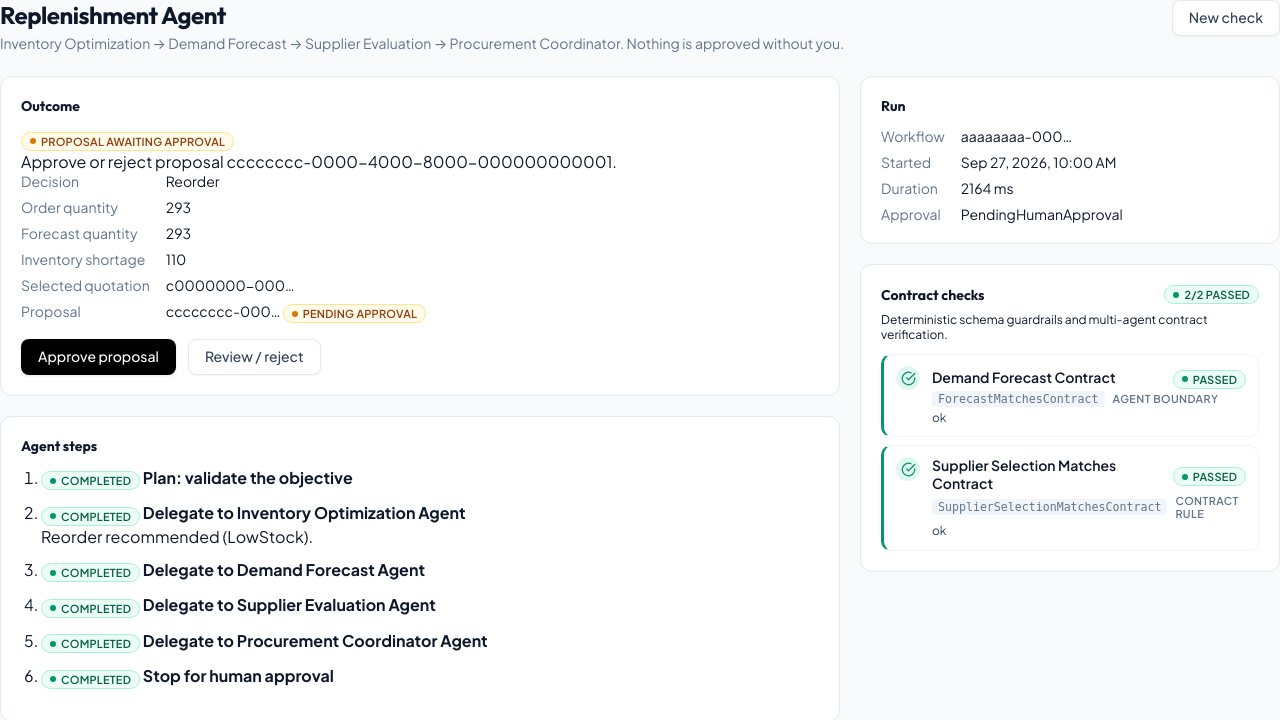
Scenario: ReplenishmentPage — a run › lets a Procurement Manager approve through the agent workflow and shows the live status
Click the button "Approve proposal". click: (98, 357)
box: 21,339 -> 176,374
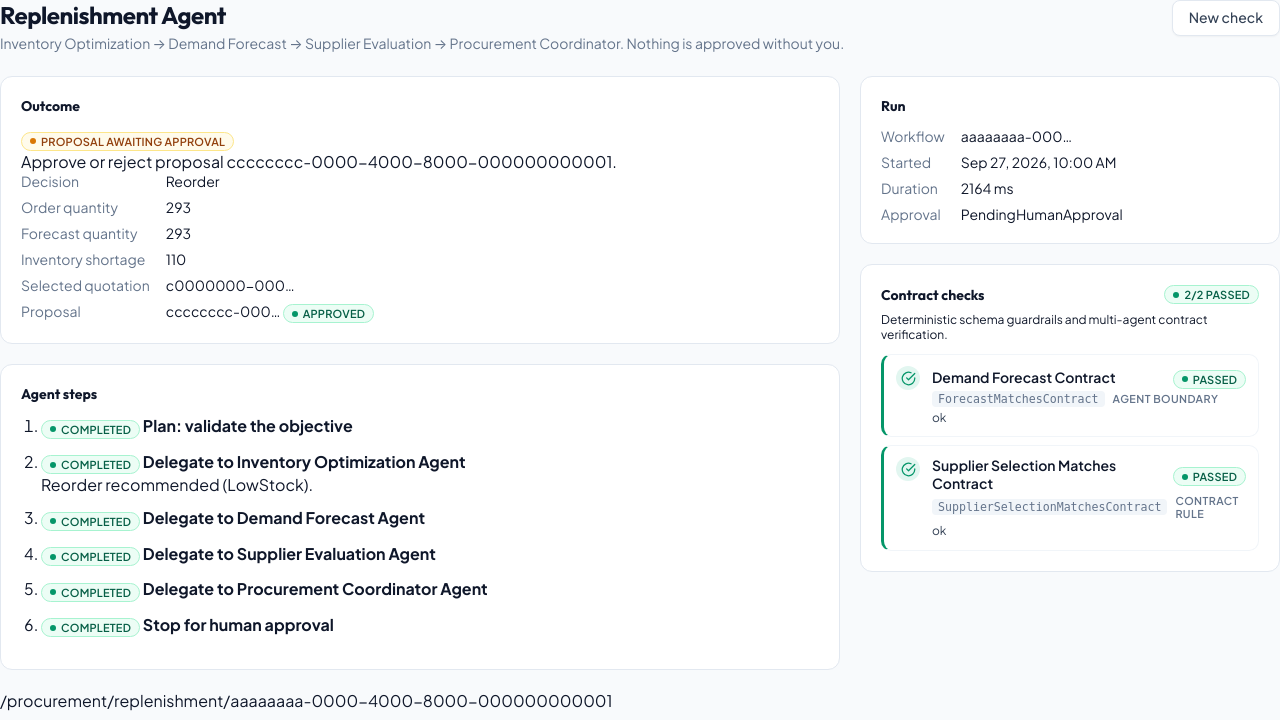
Now the text "Approved" is shown, box 283,304 -> 374,323
Now the button "Approve proposal" is gone
